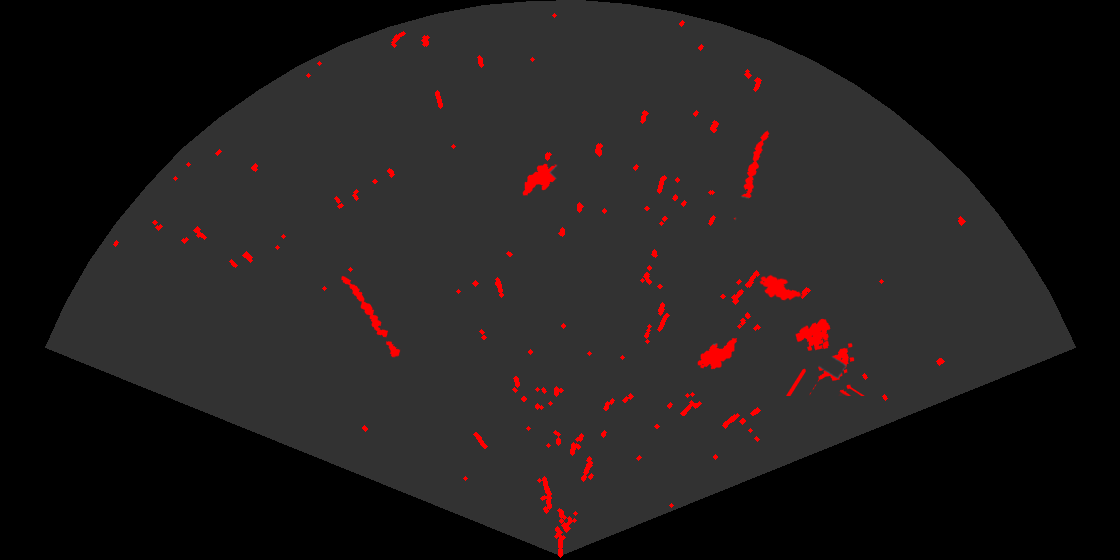AUV: (696, 336, 739, 371), (758, 273, 803, 302), (521, 162, 558, 197)
cage: (785, 317, 866, 396)
chain: (340, 274, 402, 359), (732, 129, 771, 221)
